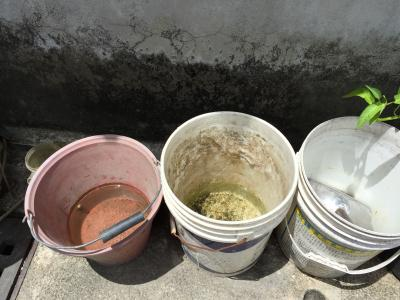bucket: (156, 109, 302, 280), (280, 115, 400, 287), (19, 132, 164, 272)
